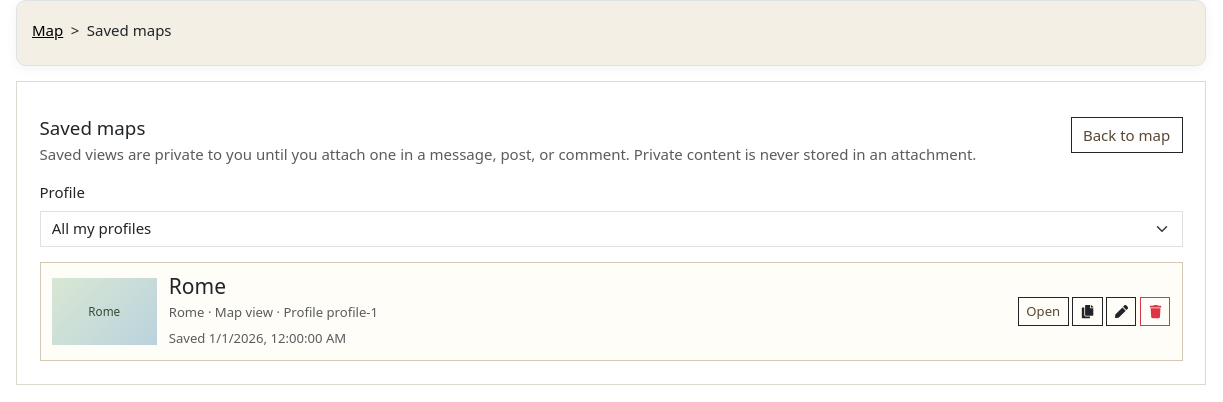
Test: manages saved maps by profile
The image size is (1223, 402).
Expected: the heading "Rome" is shown, top-left (169, 272), bottom-right (226, 300)
Click the button named "Rename Rome" at (1121,311), box top-left (1106, 297), bottom-right (1136, 326)
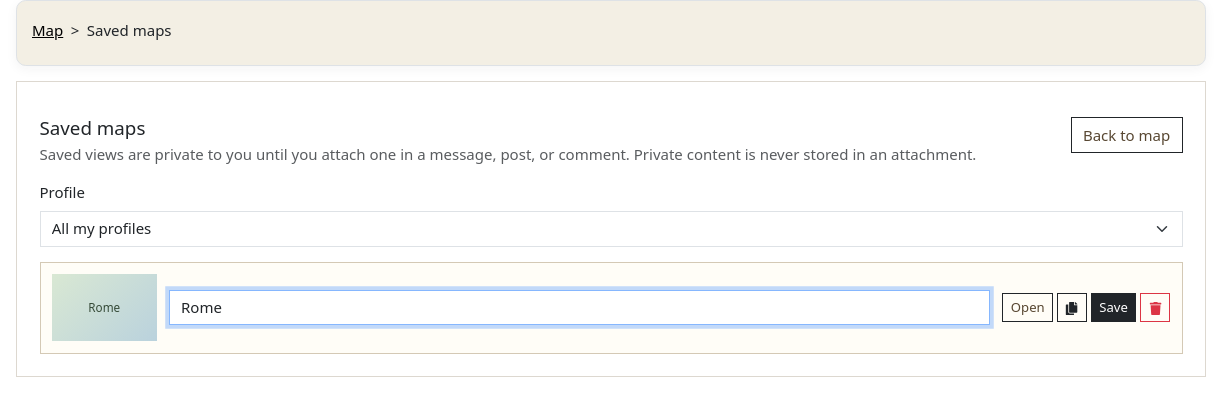
Replace the text in the field named "Saved map title" with "Updated Rome" at (580,308), box top-left (169, 290), bottom-right (990, 326)
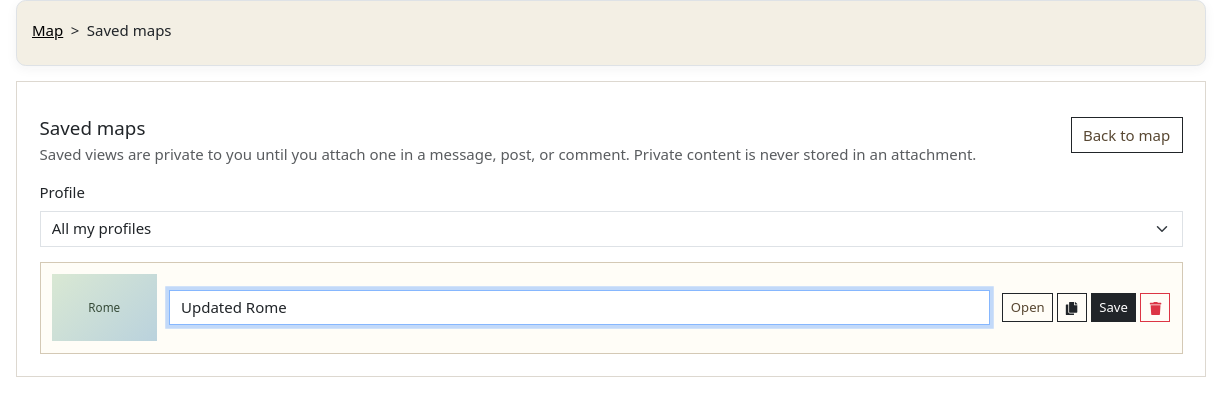
Click the button "Save" at (1114,308), box top-left (1091, 293), bottom-right (1136, 322)
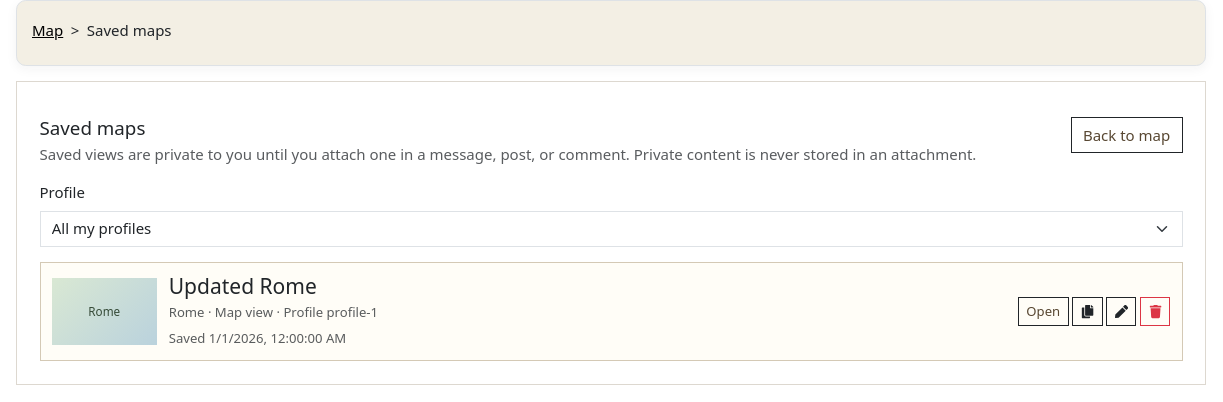
Select "No profile" in the dropdown labelled "Profile" at (611,229), box top-left (40, 211), bottom-right (1182, 247)
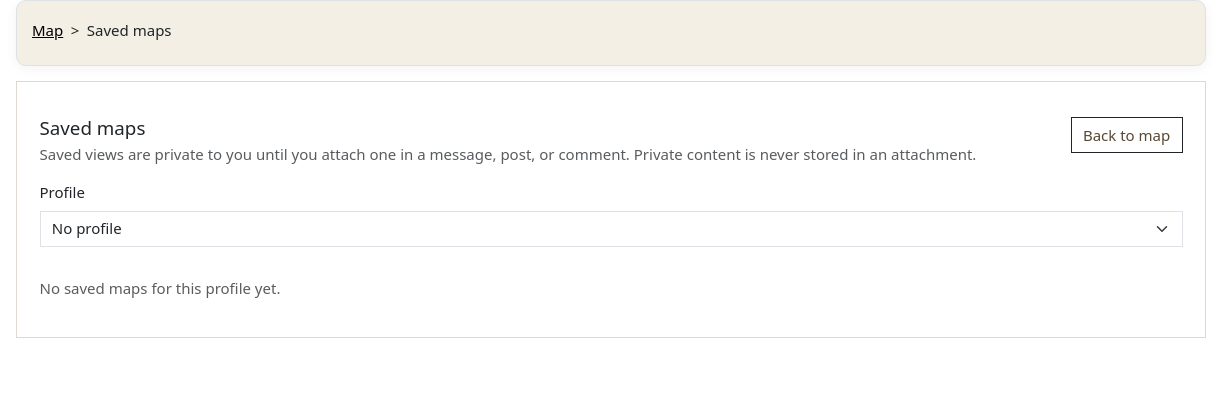
Expected: the heading "Updated Rome" is gone
